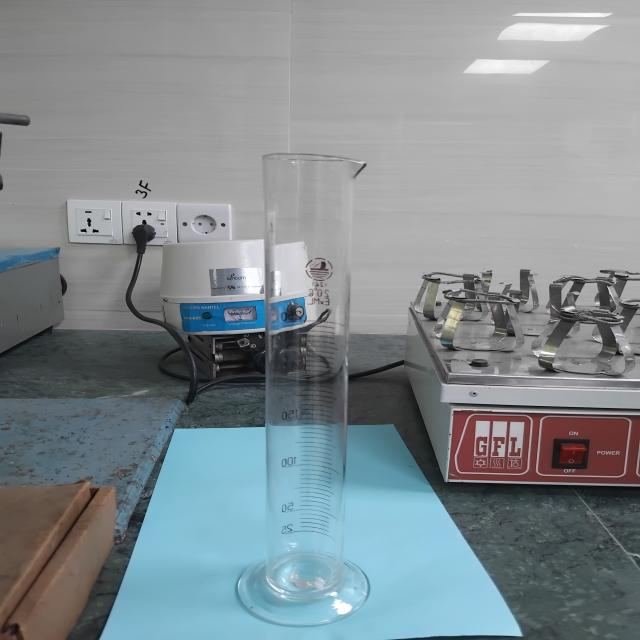Measuring_Cylinder: (224, 125, 404, 640)
